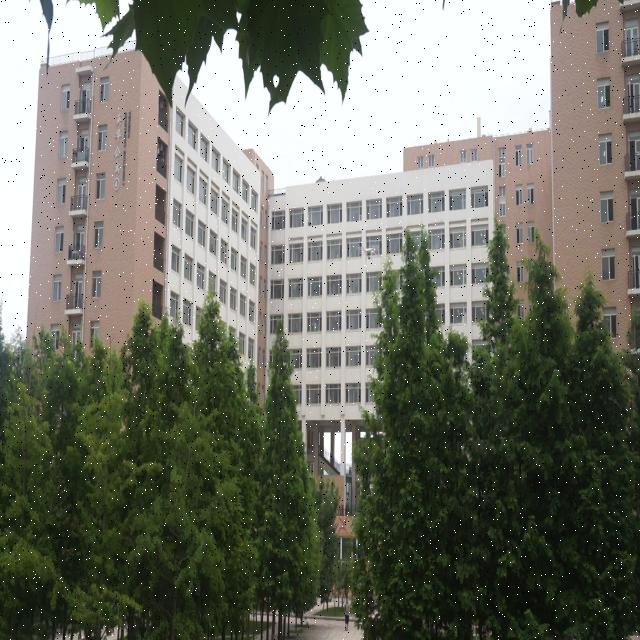UAV: (359, 246, 377, 262)
